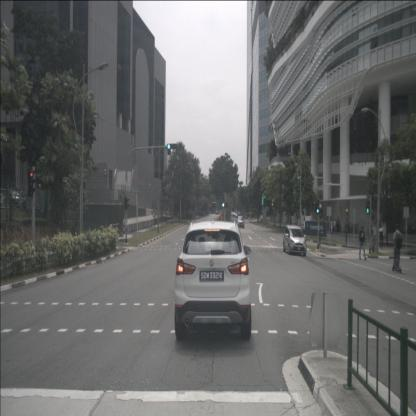human-pedestrian-adult: (358, 223, 367, 260), (379, 224, 384, 249), (369, 225, 374, 246), (336, 216, 340, 231), (330, 218, 333, 234), (333, 218, 336, 233)
vehicle-car: (174, 220, 251, 341), (282, 224, 306, 257), (4, 192, 26, 210), (236, 216, 245, 228)
